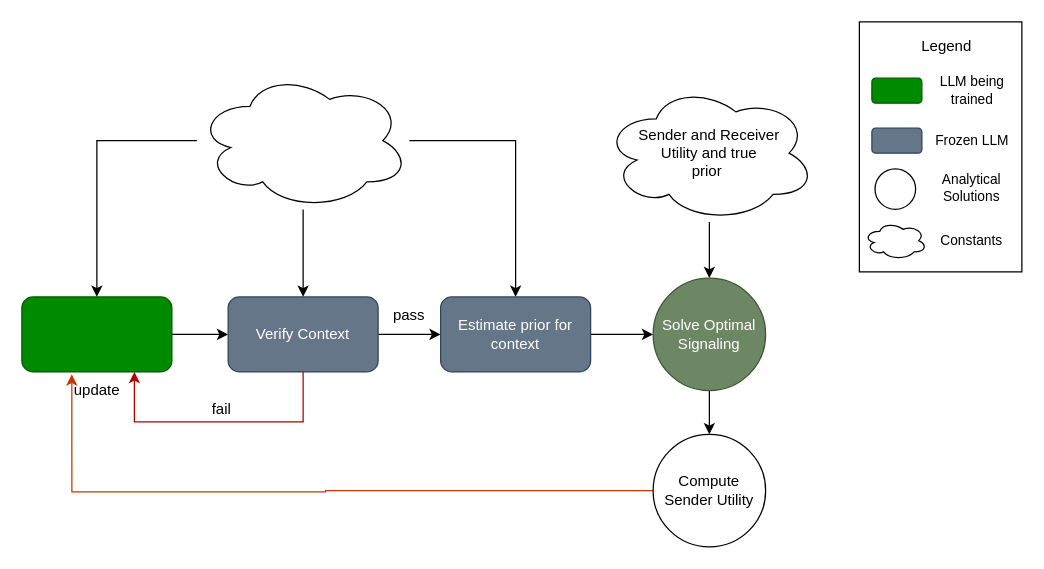
This 1044x569 diagram has some shape labels left out. Here are the shapes that lost their labels. From the top down, the centre of each, then its label:
At pixel 302 140: "Setting Description and env features".
At pixel 96 334: "Generate Context".
